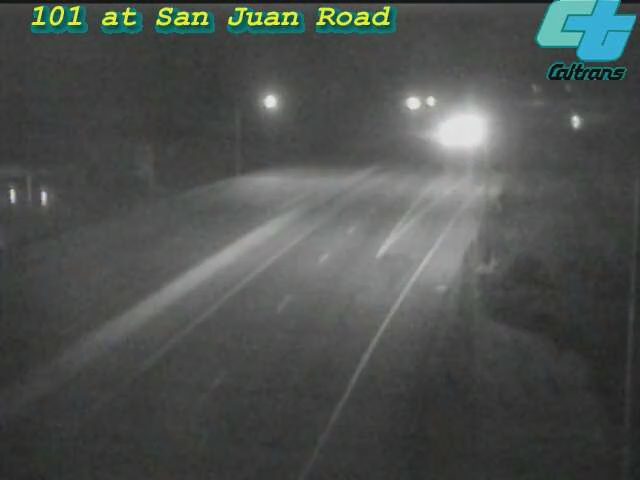vehicle: (550, 97, 600, 147), (420, 108, 470, 158), (446, 104, 496, 154)
